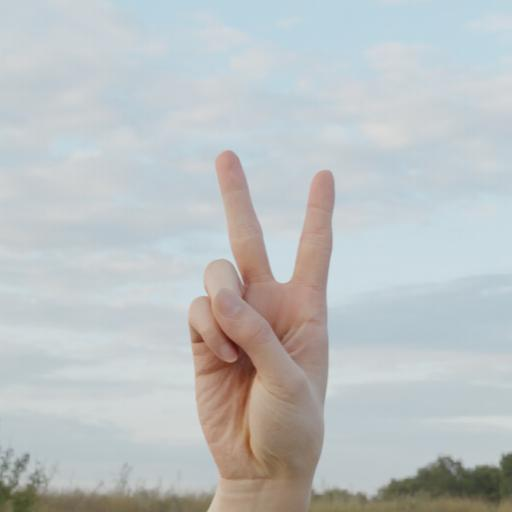V: (168, 144, 350, 500)
